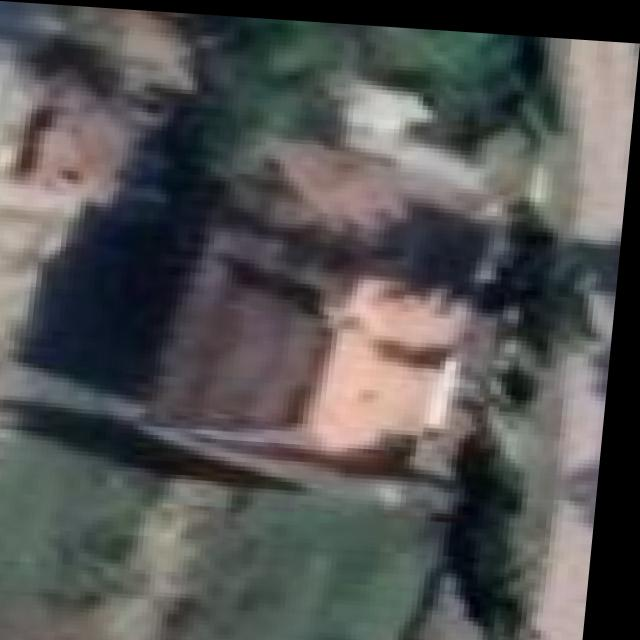Batiment: (145, 123, 516, 503)
